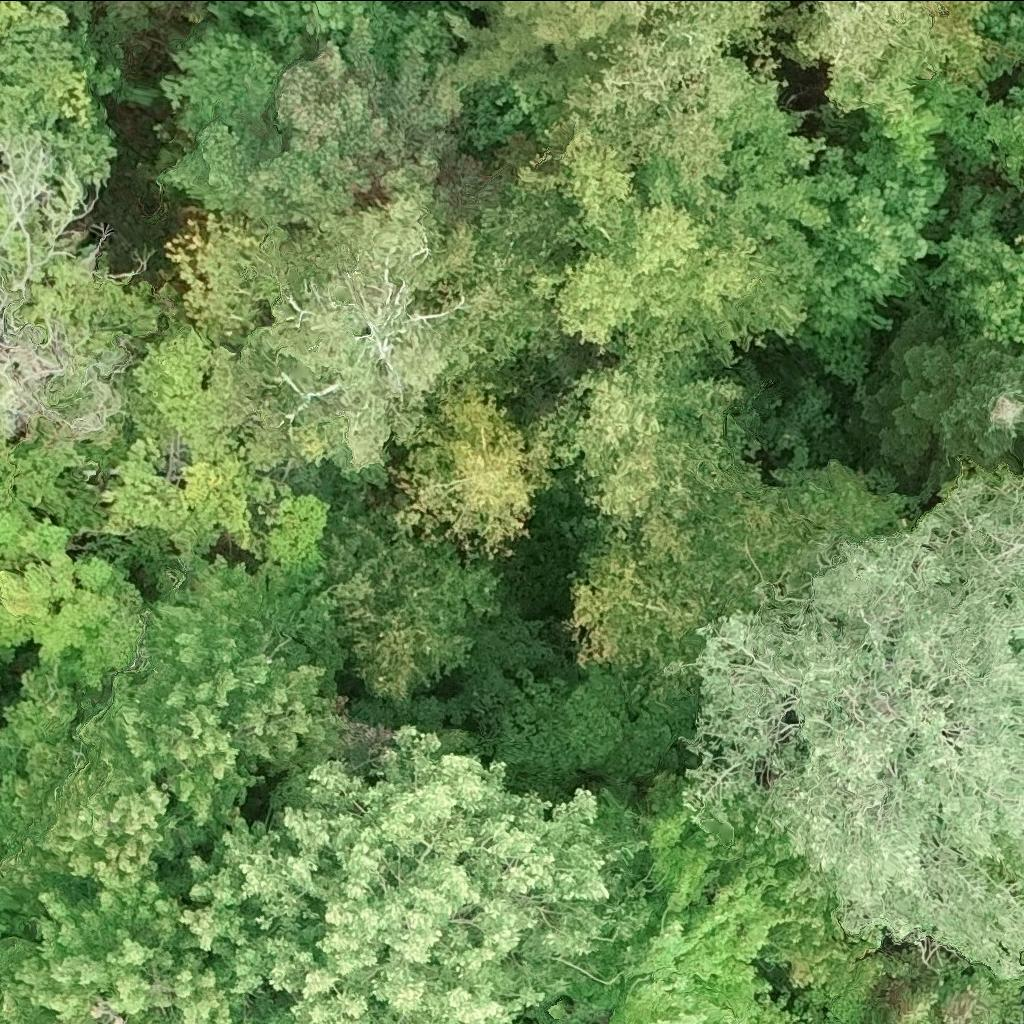crown: (687, 472, 1023, 978), (0, 555, 399, 936), (184, 724, 646, 1023), (214, 185, 583, 484), (160, 16, 536, 230), (519, 788, 807, 1023), (0, 124, 169, 460), (572, 473, 814, 700), (0, 504, 152, 859), (652, 771, 884, 998), (528, 129, 759, 344), (97, 320, 280, 574), (0, 879, 298, 1023), (535, 347, 772, 525), (567, 0, 774, 200), (447, 0, 646, 151), (164, 3, 332, 159), (401, 385, 552, 558), (866, 319, 1023, 472), (796, 934, 1023, 1023), (0, 0, 115, 172), (217, 0, 459, 81), (928, 183, 1023, 357), (164, 209, 266, 340), (781, 459, 914, 550), (983, 88, 1023, 191), (928, 0, 991, 44), (0, 894, 19, 940), (1016, 235, 1023, 248)
